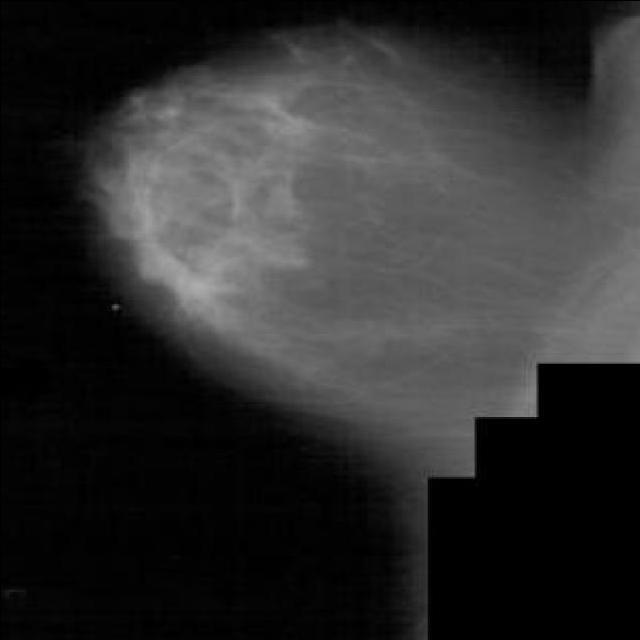tumor: (108, 90, 294, 310)
